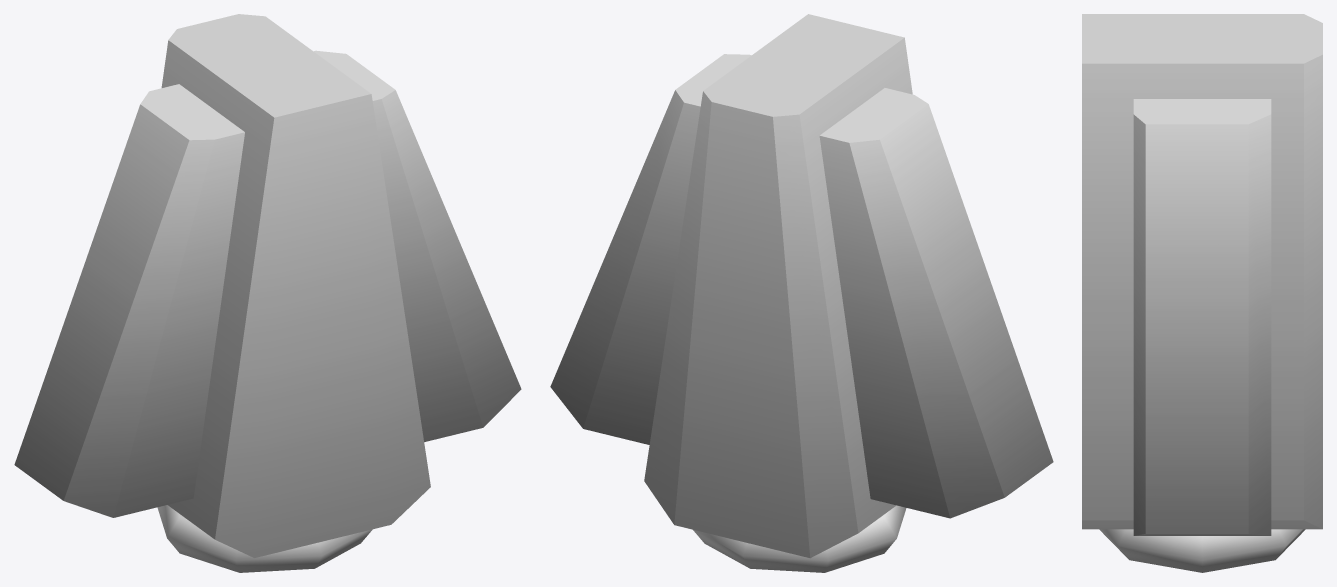
The model's file is stone_pommel_163.glb.
The picture shows the model from 3 angles, left to right: view 1: azimuth 30°, elevation 25°; view 2: azimuth 150°, elevation 25°; view 3: azimuth 270°, elevation 25°; orthographic projection. The views are drawn at different scales.
Visible parts, largest first — view 1: stone_pommel.163; view 2: stone_pommel.163; view 3: stone_pommel.163.
Boxes of the visible parts, bbox=[...] form: stone_pommel.163: bbox=[14, 14, 521, 572]; stone_pommel.163: bbox=[550, 14, 1053, 572]; stone_pommel.163: bbox=[1082, 14, 1322, 572].
Size of the model in its own units: 2.35 by 2.3 by 1.02.
Materials: 1 (1 with a texture image).
